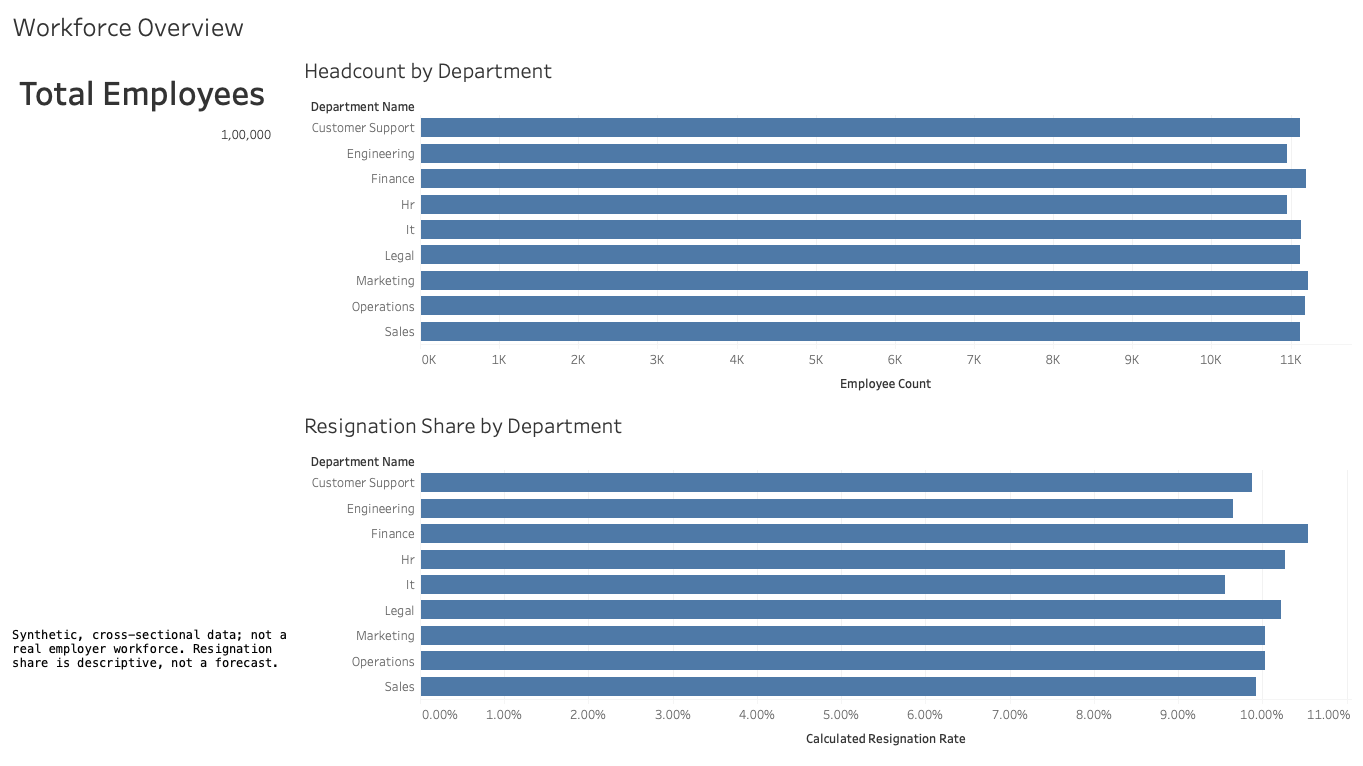

The page's visual inventory and layout, read from the dashboard file:
{"tool":"tableau","page":{"name":"Workforce Overview","canvas":[1366,768],"ordinal":2},"visuals":[{"type":"title","box":[8,8,1350,42]},{"type":"text","box":[8,50,290,491]},{"type":"worksheet","title":"Headcount by Department","mark":"Automatic","rows":["department_name"],"cols":["employee_count"],"box":[298,50,1060,355]},{"type":"worksheet","title":"Total Employees","mark":"Automatic","box":[17,68,261,92]},{"type":"worksheet","title":"Resignation Share by Department","mark":"Automatic","rows":["department_name"],"cols":["Calculation_1631332366254080"],"box":[298,405,1060,355]},{"type":"text","box":[8,541,290,219]}]}

Visuals, with their boxes in screenshot pixels (x1, y1, x2, y2), scaled from the page's 1366x768 canvas onto the 1363x766 screenshot:
title: locate(8, 8, 1355, 50)
text: locate(8, 50, 297, 540)
"Headcount by Department" worksheet: locate(297, 50, 1355, 404)
"Total Employees" worksheet: locate(17, 68, 277, 160)
"Resignation Share by Department" worksheet: locate(297, 404, 1355, 758)
text: locate(8, 540, 297, 758)
